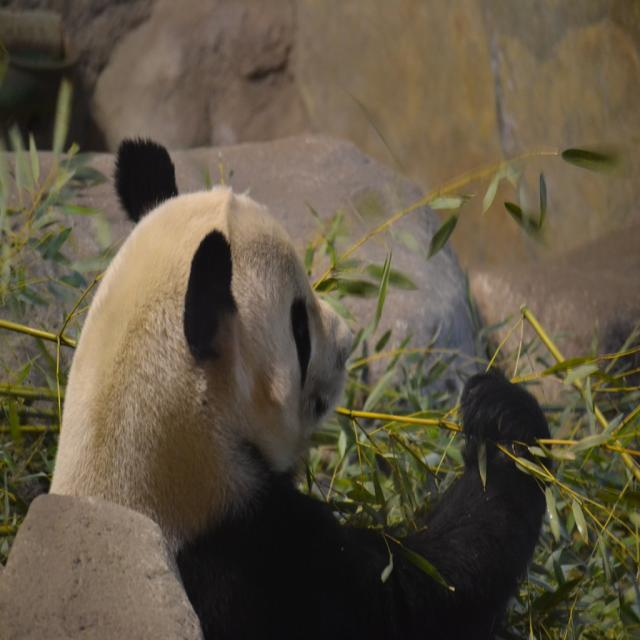panda: (48, 133, 554, 639)
